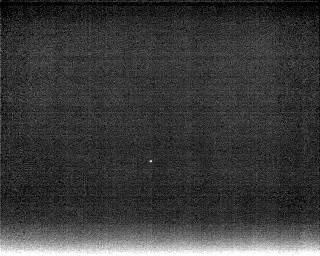BIRD: (147, 157, 154, 166)
